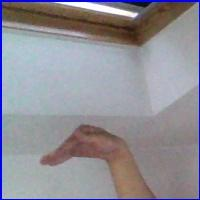del: (39, 119, 130, 177)
